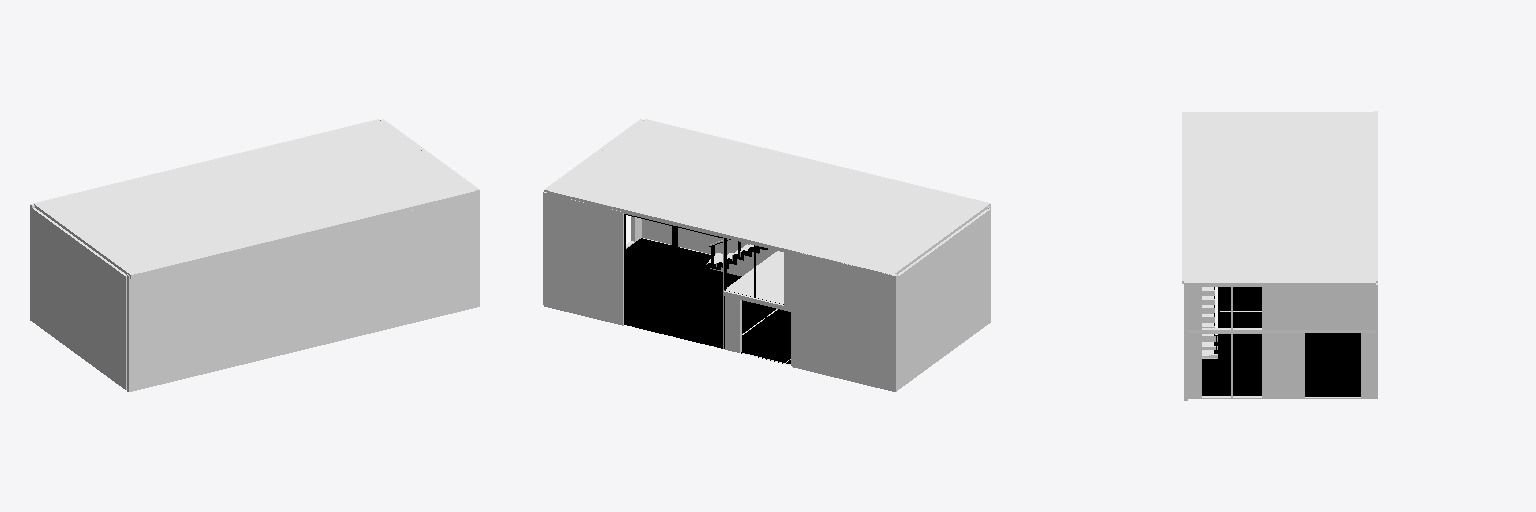
File: APARTAMENTICO.obj
3 renders of one model, left to right at view 1: azimuth 30°, elevation 25°; view 2: azimuth 150°, elevation 25°; view 3: azimuth 270°, elevation 25°, orthographic.
Visible parts, largest first — view 1: polySurface52; view 2: polySurface52; view 3: polySurface52.
Boxes of the visible parts, x1,y1,x2,y2 form: polySurface52: [30, 119, 479, 391]; polySurface52: [543, 119, 990, 391]; polySurface52: [1182, 111, 1377, 400].
Size of the model in its own units: 95.35 by 30.51 by 45.95.